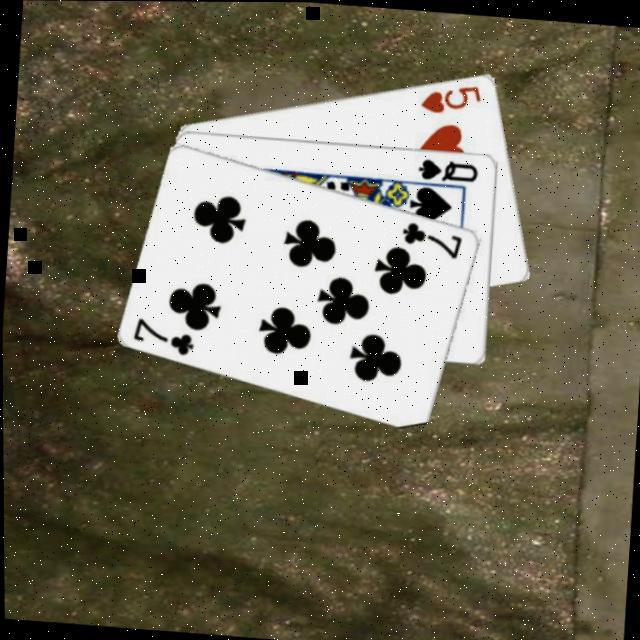5H: (418, 78, 485, 118)
7C: (128, 314, 198, 359), (398, 218, 468, 262)
QS: (414, 154, 482, 186)
